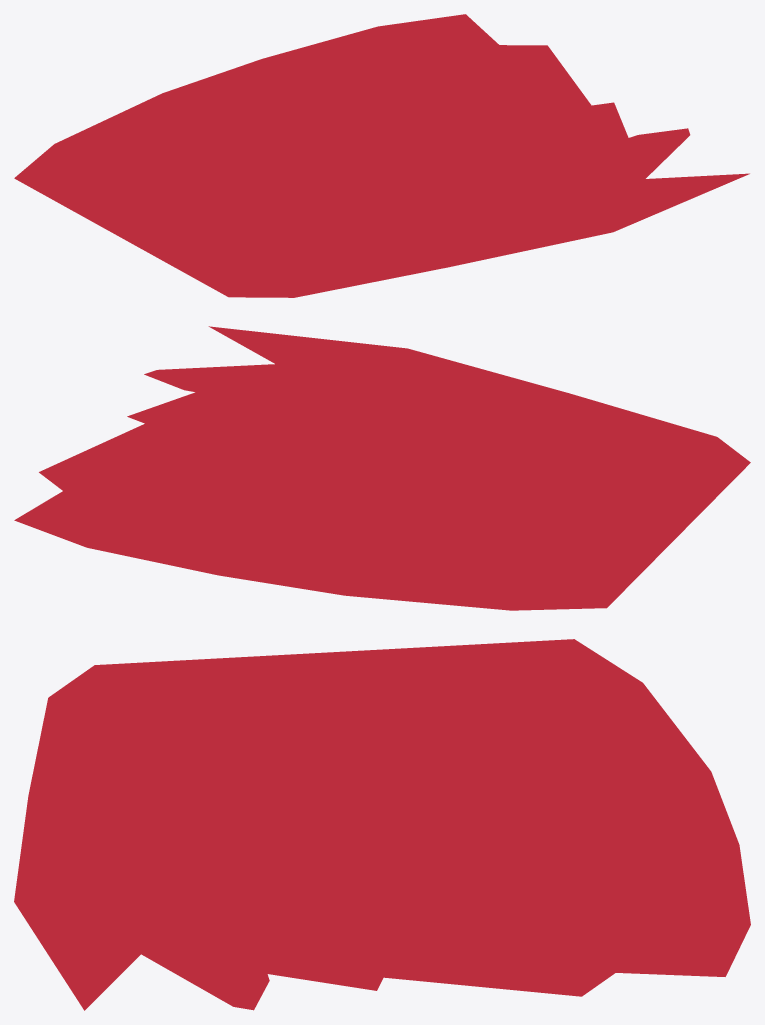
Rendered from tomatepicado.fbx.
3 views of the same model, one above another, from view 1: azimuth 30°, elevation 25°; view 2: azimuth 150°, elevation 25°; view 3: azimuth 270°, elevation 25° (orthographic). The views are drawn at different scales.
Visible parts, largest first — view 1: Sphere; view 2: Sphere; view 3: Sphere.
Boxes of the visible parts, <box> form: Sphere: <box>14,14,749,297</box>; Sphere: <box>14,326,750,610</box>; Sphere: <box>14,639,750,1010</box>.
Bounding box in the file's own units: 157 × 2.14e-05 × 131.
